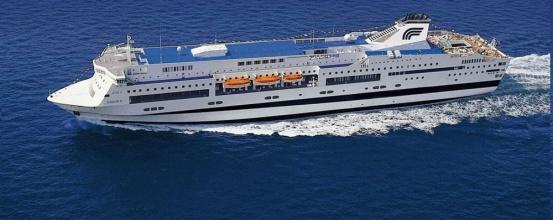youlun: (43, 13, 514, 123)
